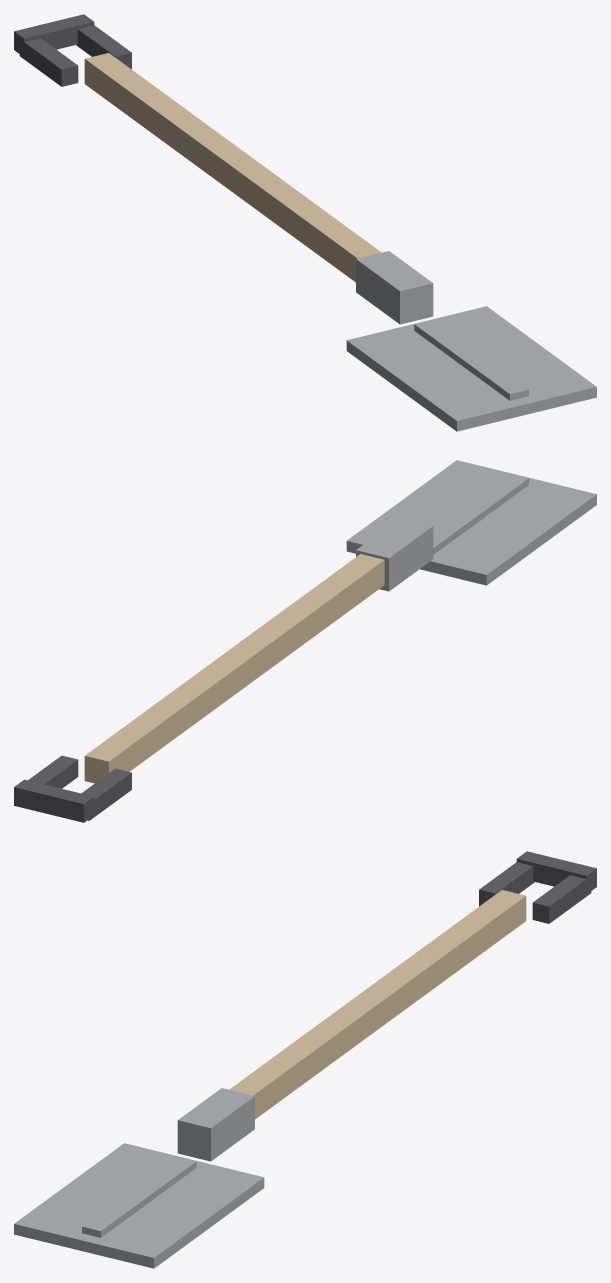
File: shovel.gltf
3 views of the same model, one above another, from view 1: azimuth 30°, elevation 25°; view 2: azimuth 150°, elevation 25°; view 3: azimuth 330°, elevation 25° (orthographic).
Parts seen in each view (by area): view 1: Blade, Shaft, Socket, BladeRib, GripBar, GripPostA, GripPostB; view 2: Shaft, Blade, Socket, BladeRib, GripBar, GripPostA, GripPostB; view 3: Blade, Shaft, Socket, BladeRib, GripPostB, GripBar, GripPostA.
Part boxes in pixels (x1,y1,x2,y2): Blade: (346, 306, 596, 431); Shaft: (84, 53, 381, 282); Socket: (356, 251, 433, 324); BladeRib: (414, 319, 528, 400); GripBar: (14, 14, 94, 56); GripPostA: (19, 38, 78, 86); GripPostB: (76, 25, 131, 69); Shaft: (84, 554, 384, 783); Blade: (346, 460, 596, 585); Socket: (356, 518, 433, 591); BladeRib: (433, 473, 528, 554); GripBar: (14, 779, 94, 822); GripPostA: (81, 768, 131, 820); GripPostB: (28, 755, 78, 788); Blade: (14, 1143, 264, 1268); Shaft: (229, 890, 526, 1119); Socket: (177, 1088, 254, 1161); BladeRib: (82, 1156, 196, 1237); GripPostB: (532, 875, 591, 923); GripBar: (516, 851, 596, 892); GripPostA: (479, 862, 534, 906).
Bounding box in the file's own units: 0.0137 × 0.00438 × 0.0812.
